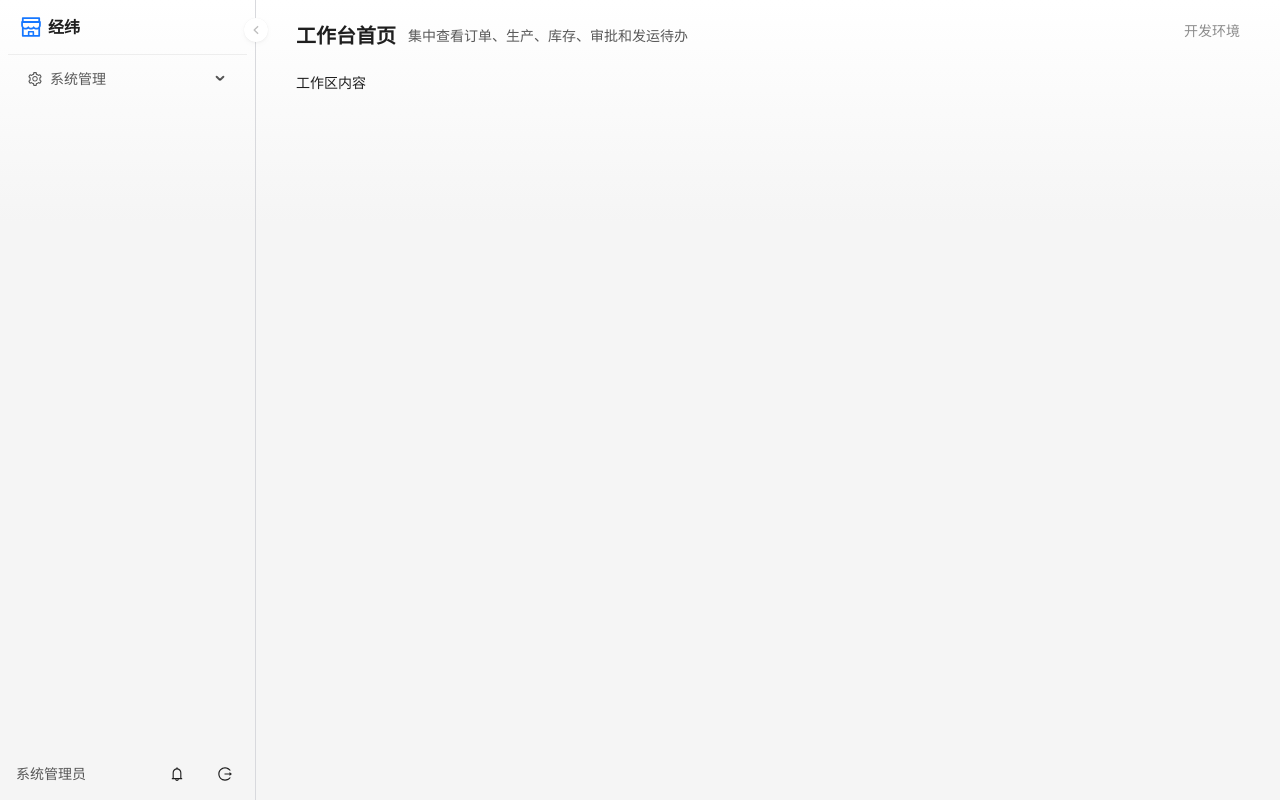
DashboardLayout › renders backend menu tree and current user name from auth session
Click the menu item "系统管理": point(67, 78) [28,70,106,87]
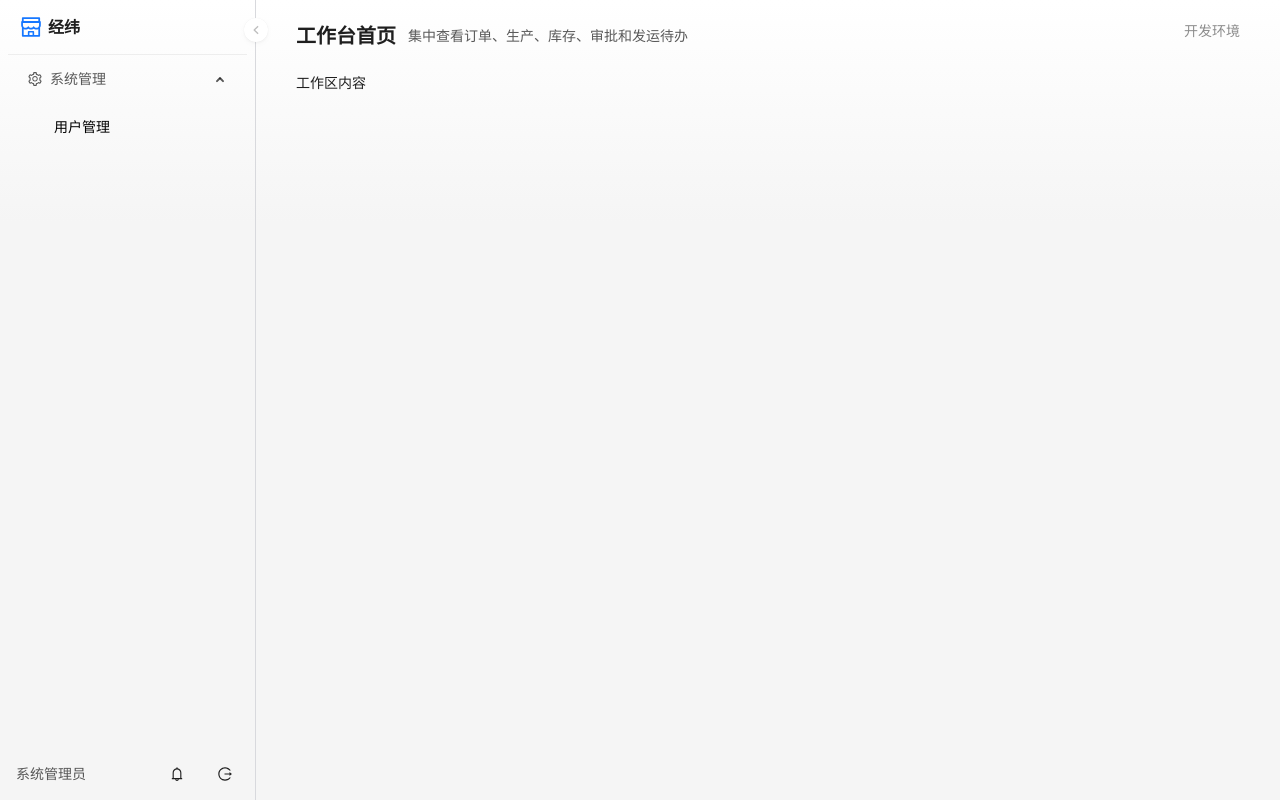
Expected: the text "系统管理员" is shown, [16,763,86,785]
Now the text "用户管理" is shown, box [54,118,110,135]
